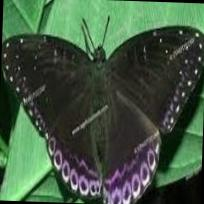butterfly: (1, 27, 204, 204)
